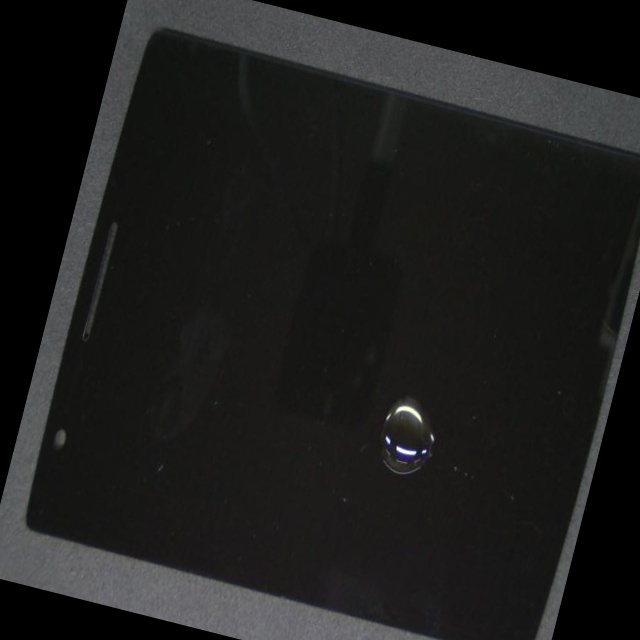oil: (213, 235, 633, 640)
